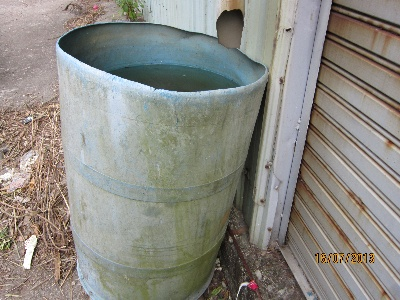bucket: (56, 19, 268, 300)
